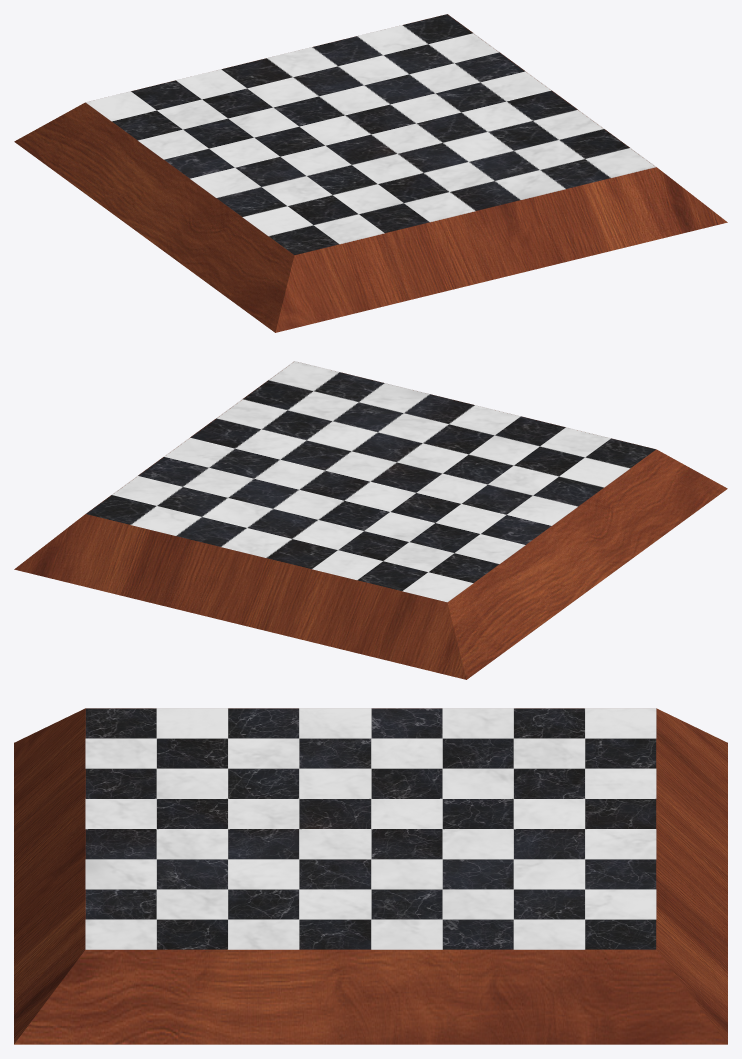
The model's file is board.glb.
3 views of the same model, one above another, from view 1: azimuth 30°, elevation 25°; view 2: azimuth 150°, elevation 25°; view 3: azimuth 270°, elevation 25° (orthographic). The views are drawn at different scales.
Visible parts, largest first — view 1: Cube; view 2: Cube; view 3: Cube.
Part boxes in pixels (x1,y1,x2,y2): Cube: (14, 14, 727, 332); Cube: (14, 361, 727, 679); Cube: (14, 708, 727, 1044).
Size of the model in its own units: 10 by 1 by 10.
1 material, 1 textured.
